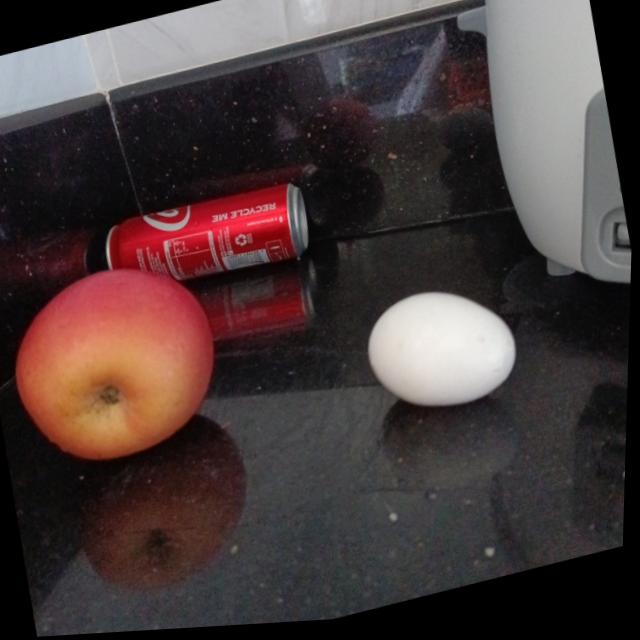apple: (0, 247, 235, 484)
coke: (100, 176, 319, 307)
egg: (358, 277, 531, 428)
